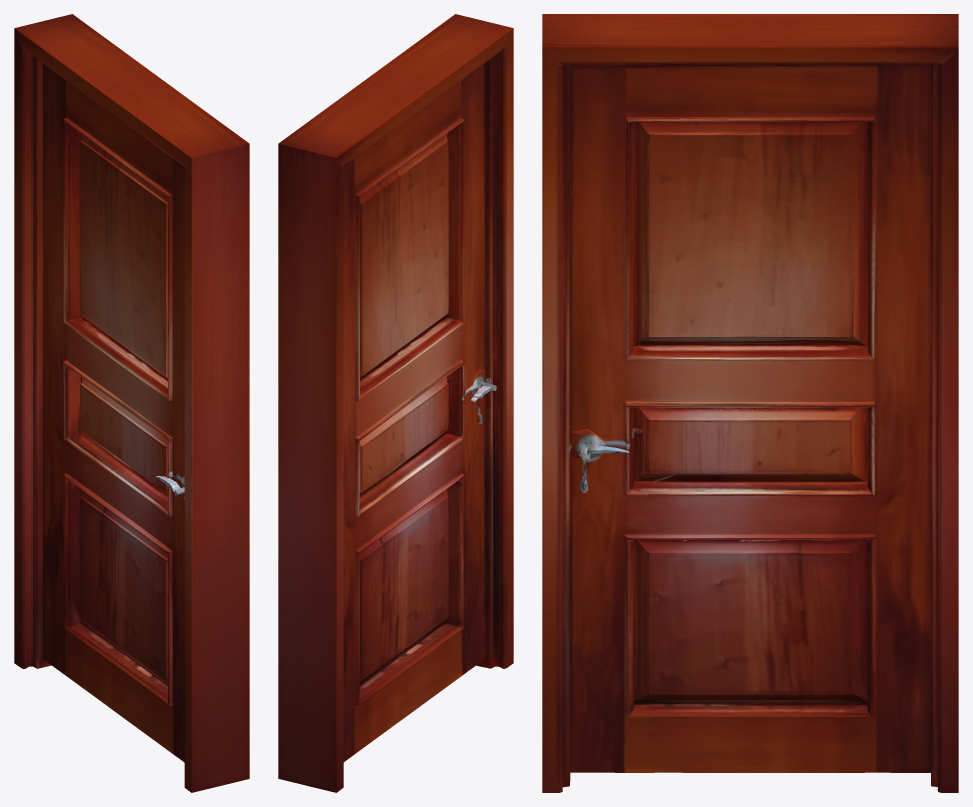
File: DoorNlv3.fbx
The picture shows the model from 3 angles, left to right: view 1: azimuth 30°, elevation 25°; view 2: azimuth 150°, elevation 25°; view 3: azimuth 270°, elevation 25°; orthographic projection. The views are drawn at different scales.
Visible parts, largest first — view 1: tripo_node_d2ef6cbe; view 2: tripo_node_d2ef6cbe; view 3: tripo_node_d2ef6cbe.
Boxes of the visible parts, x1,y1,x2,y2 form: tripo_node_d2ef6cbe: (14,14,249,792); tripo_node_d2ef6cbe: (278,14,513,792); tripo_node_d2ef6cbe: (542,14,958,792).
Bounding box in the file's own units: 0.0962 × 0.9999 × 0.5064.
1 material, 1 textured.
